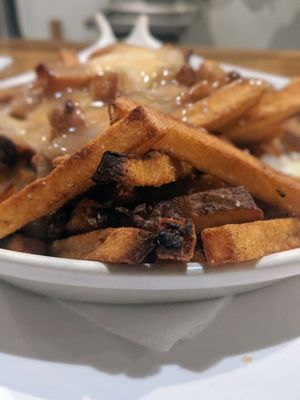sandwich: (0, 39, 300, 255)
